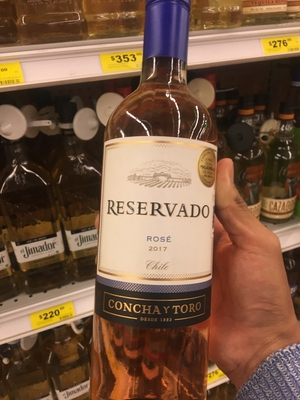reservado rose: (96, 30, 224, 387)
